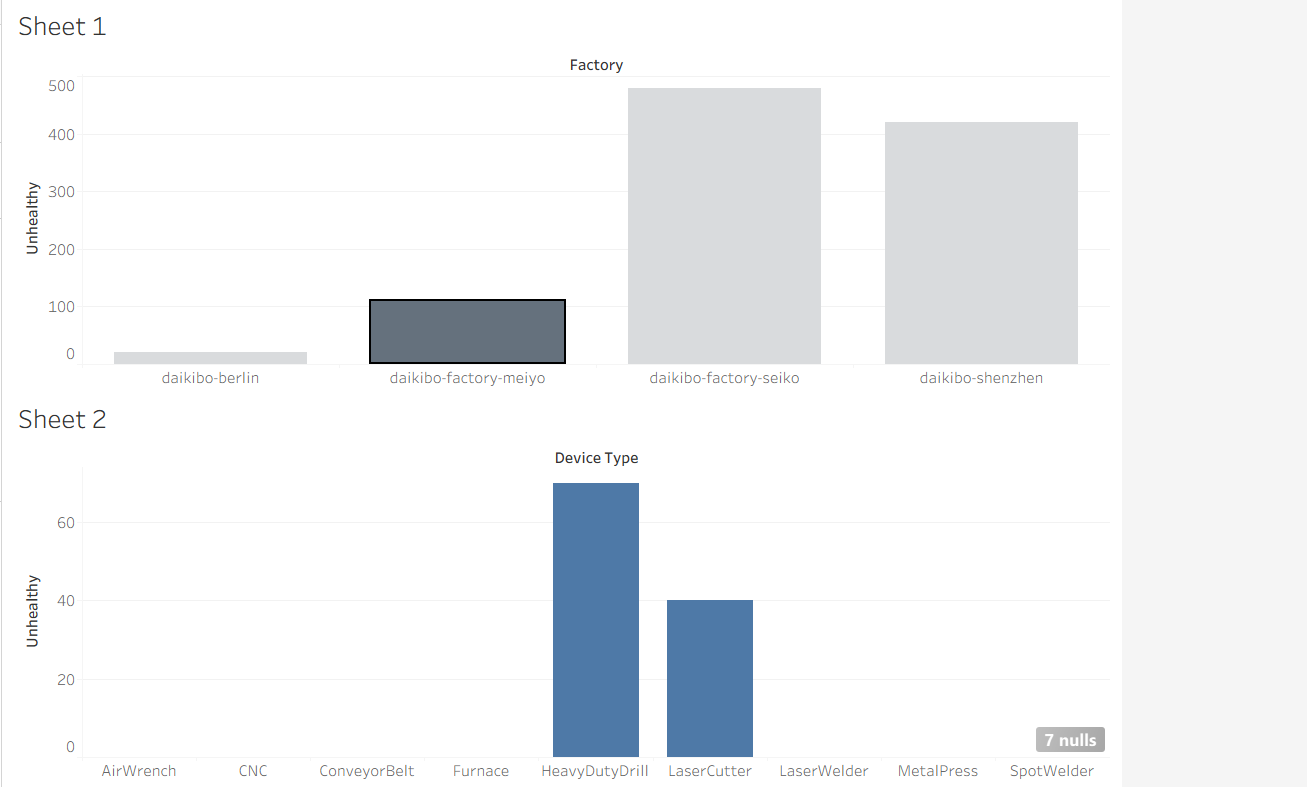

This screenshot's page, from the dashboard's own definition file:
{"tool":"tableau","page":{"name":"Dashboard 1","canvas":[1000,1000],"units":"permille","ordinal":0},"visuals":[{"type":"worksheet","title":"Sheet 1","mark":"Bar","rows":["Calculation_1185009705549766656"],"cols":["factory"],"box":[7.1,10,985.7,490]},{"type":"worksheet","title":"Sheet 2","mark":"Automatic","rows":["Calculation_1185009705549766656"],"cols":["deviceType"],"box":[7.1,500,985.7,490]}]}

Visuals, with their boxes on the dashboard's canvas, which has no fixed pixel size, in thousandths of its width and height (x1, y1, x2, y2). These are canvas units, not pixel positions in the 1307x787 screenshot, which may show the page scaled, cropped or inside an application window:
"Sheet 1" worksheet (Bar marks): <region>7, 10, 993, 500</region>
"Sheet 2" worksheet: <region>7, 500, 993, 990</region>
